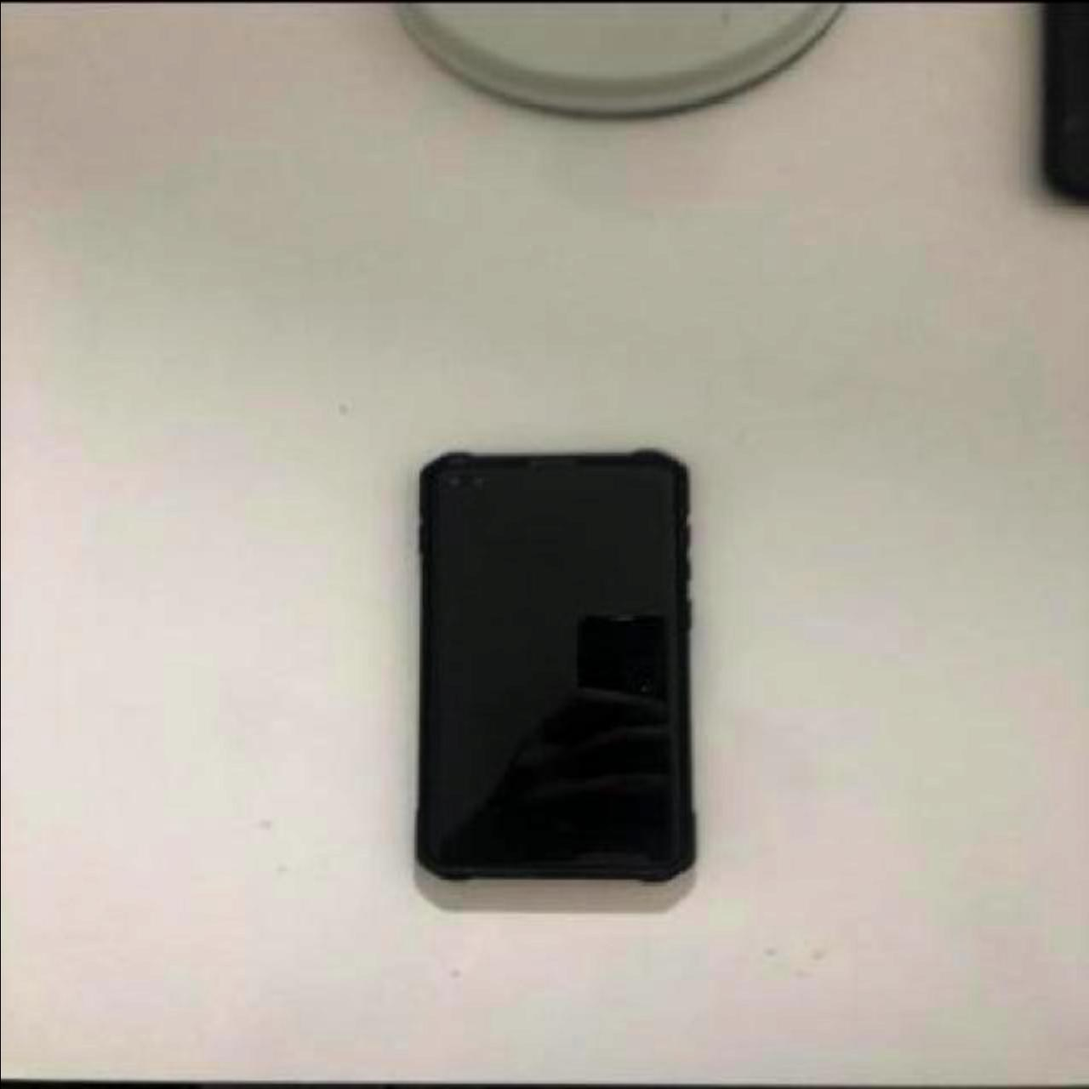phone: (411, 446, 692, 881)
